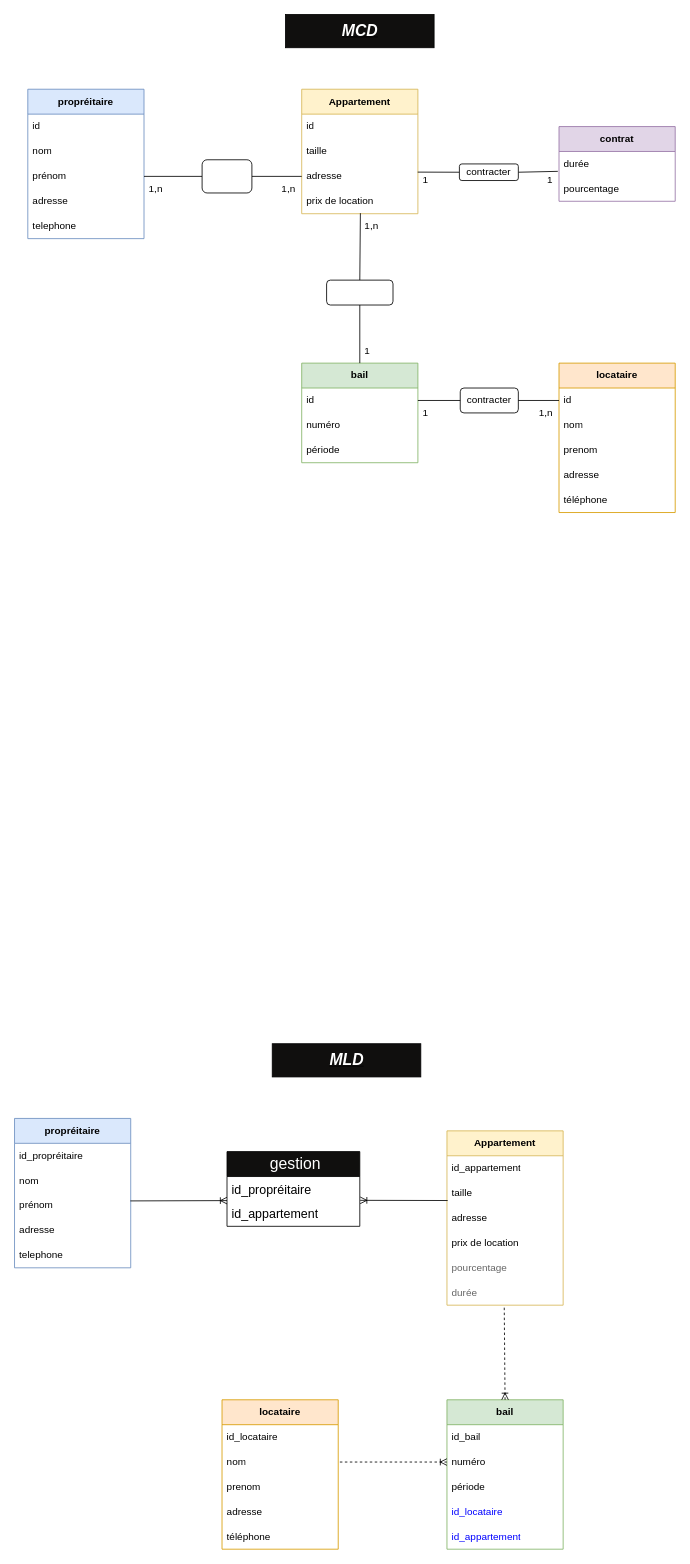
The diagram is 690 pixels wide and 1564 high, and some of its shapes have lost their labels. Here are the shapes that lost their labels. From the top down, the centre of each, then its label:
At point 226,176: "mettre en gestion".
At point 359,292: "donnée par".
